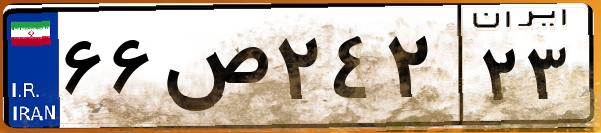2: (270, 28, 330, 110), (385, 28, 445, 110), (475, 38, 525, 113)
3: (525, 38, 570, 115)
4: (330, 28, 385, 110)
6: (57, 26, 110, 100), (110, 28, 158, 98)
ص: (158, 20, 270, 120)
